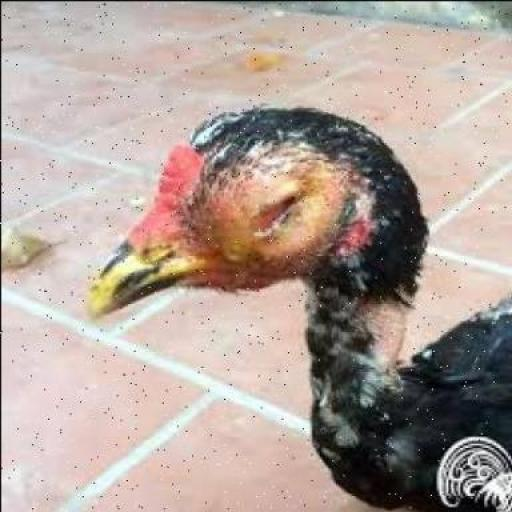disease: (208, 155, 406, 267)
